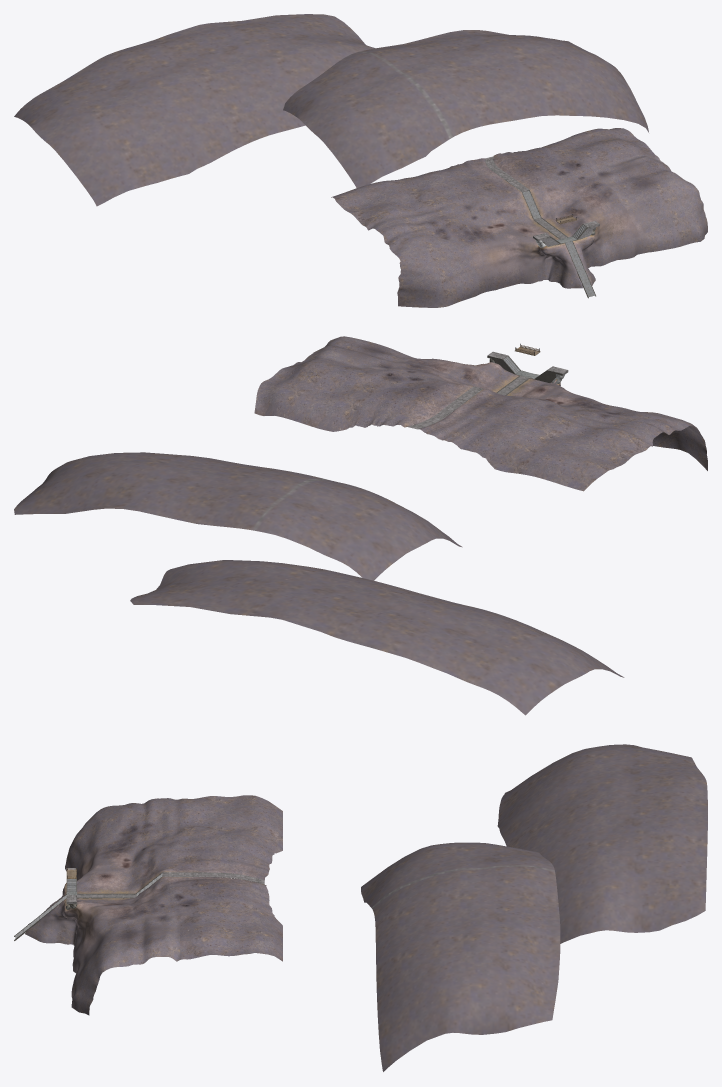
The model's file is Netherworld.FBX.
3 views of the same model, one above another, from view 1: azimuth 30°, elevation 25°; view 2: azimuth 150°, elevation 25°; view 3: azimuth 270°, elevation 25° (orthographic). The views are drawn at different scales.
Parts seen in each view (by area): view 1: hills, 14uv; view 2: hills, 14uv, FarRoad; view 3: hills, 14uv, FarRoad.
Part boxes in pixels (x1=…): hills: x1=14, y1=14, x2=648, y2=206; 14uv: x1=331, y1=128, x2=707, y2=307; hills: x1=14, y1=452, x2=624, y2=715; 14uv: x1=254, y1=336, x2=707, y2=491; FarRoad: x1=407, y1=386, x2=483, y2=429; hills: x1=361, y1=744, x2=707, y2=1071; 14uv: x1=25, y1=795, x2=282, y2=1015; FarRoad: x1=162, y1=872, x2=264, y2=884.
Bounding box in the file's own units: 5516 × 5831 × 863.
